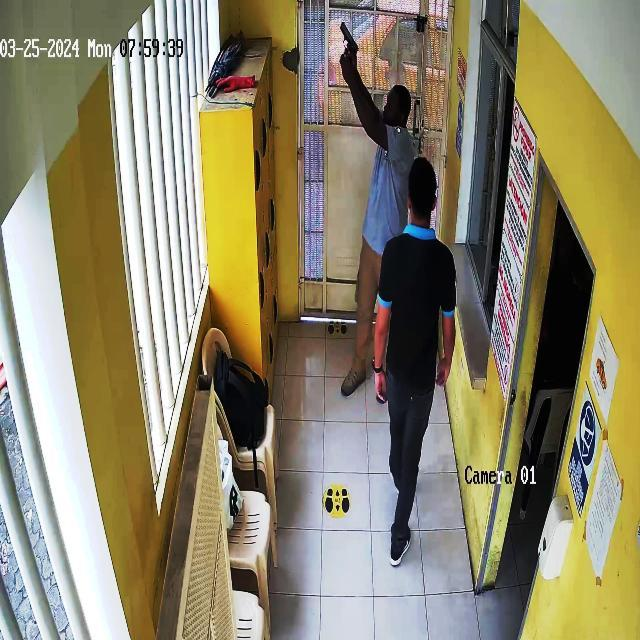Gun: (332, 15, 367, 64)
